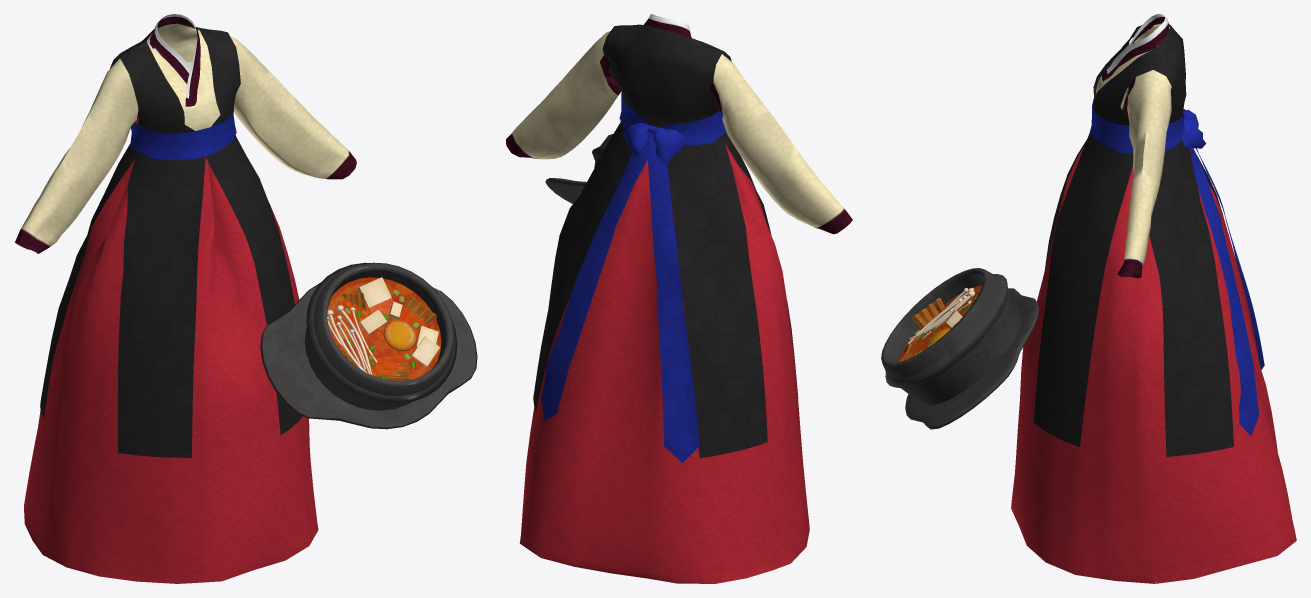
Rendered from coreaS.glb.
The picture shows the model from 3 angles, left to right: view 1: azimuth 30°, elevation 25°; view 2: azimuth 150°, elevation 25°; view 3: azimuth 270°, elevation 25°; orthographic projection.
Parts seen in each view (by area): view 1: geomubok_lambert2_0, Egg_Yolk_lambert1_0, Soup_lambert3_0; view 2: geomubok_lambert2_0, Egg_Yolk_lambert1_0; view 3: geomubok_lambert2_0, Egg_Yolk_lambert1_0, Soup_lambert3_0.
Boxes of the visible parts, x1,y1,x2,y2 form: geomubok_lambert2_0: [14, 14, 356, 583]; Egg_Yolk_lambert1_0: [260, 262, 477, 429]; Soup_lambert3_0: [327, 277, 441, 379]; geomubok_lambert2_0: [506, 14, 852, 583]; Egg_Yolk_lambert1_0: [545, 134, 612, 203]; geomubok_lambert2_0: [1011, 14, 1296, 583]; Egg_Yolk_lambert1_0: [881, 268, 1039, 429]; Soup_lambert3_0: [898, 285, 981, 362].
Size of the model in its own units: 2.66 by 3.46 by 2.57.
3 materials, 3 textured.
